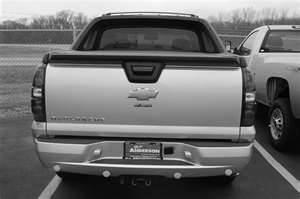car: (31, 12, 259, 183)
